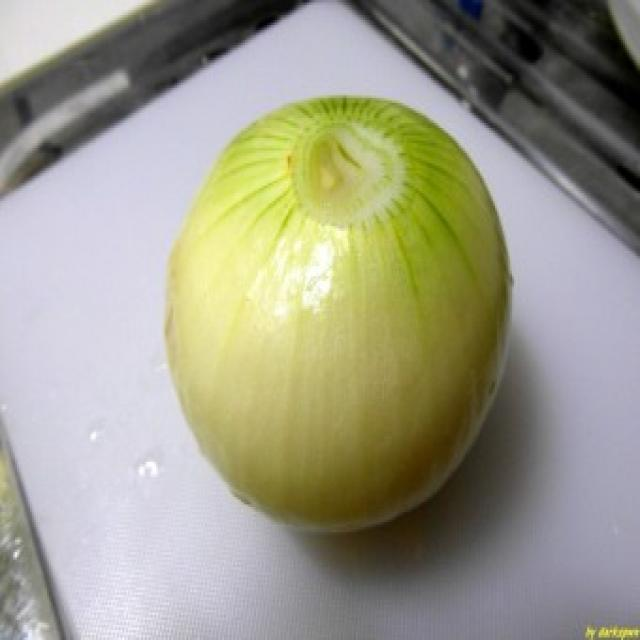onion: (158, 82, 523, 536)
